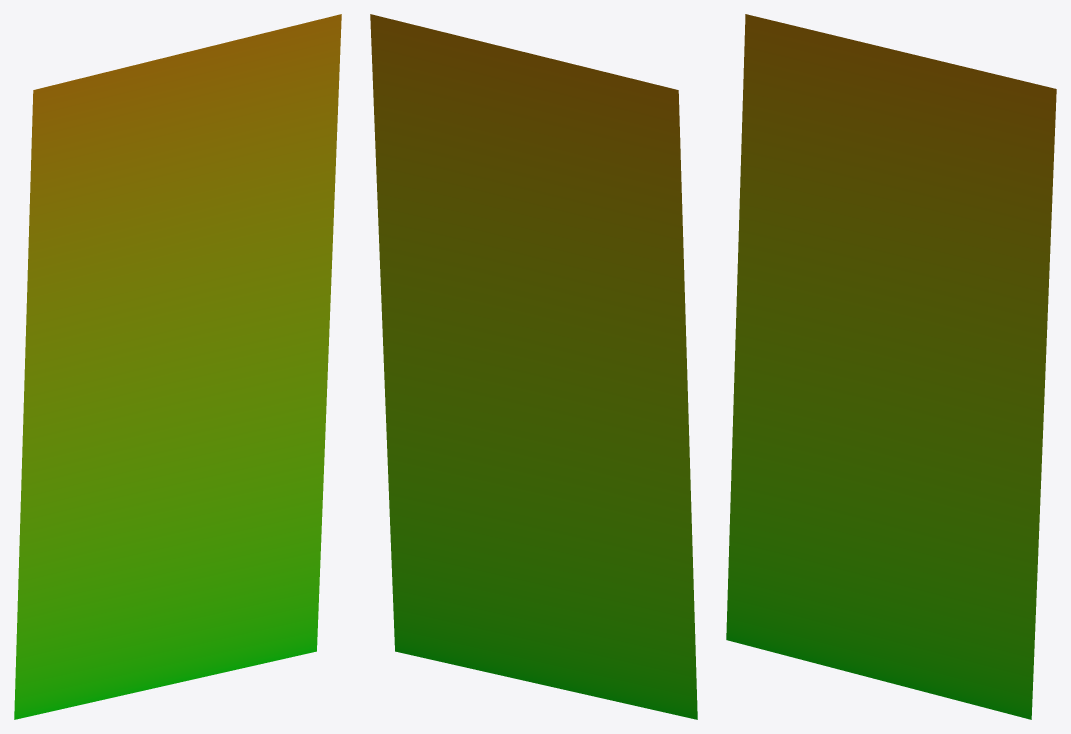
The model's file is Ocean Seaweed_LOD3_Var4_sdDkn.fbx.
3 renders of one model, left to right at view 1: azimuth 30°, elevation 25°; view 2: azimuth 150°, elevation 25°; view 3: azimuth 330°, elevation 25°, orthographic.
Parts seen in each view (by area): view 1: _edad_Var4_LOD3; view 2: _edad_Var4_LOD3; view 3: _edad_Var4_LOD3.
Part boxes in pixels (bbox=[...]): _edad_Var4_LOD3: bbox=[14, 14, 341, 719]; _edad_Var4_LOD3: bbox=[370, 14, 697, 719]; _edad_Var4_LOD3: bbox=[726, 14, 1056, 719].
Bounding box in the file's own units: 14.05 × 25.89 × 7.6e-06.
